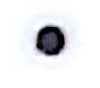cancer: (11, 6, 92, 77)
